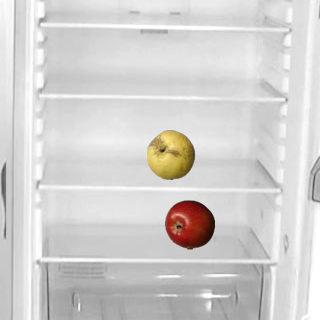Apple Braeburn: (164, 199, 214, 249)
Apple Golden 1: (145, 129, 195, 179)
